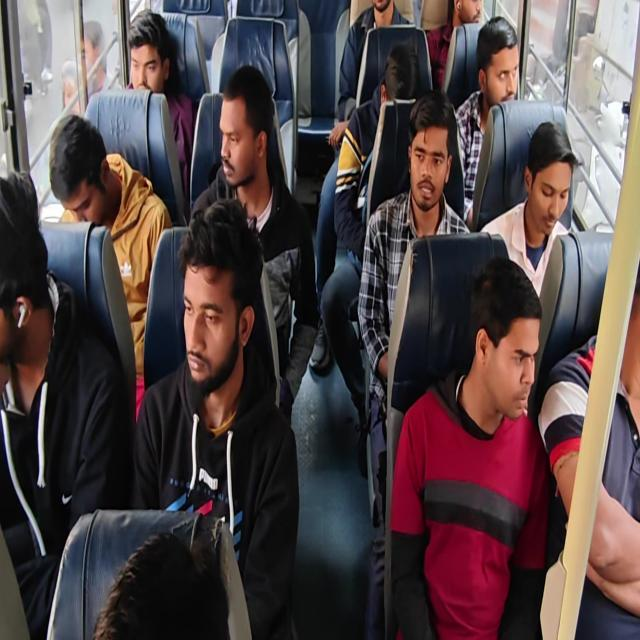person: (1, 1, 638, 638), (132, 197, 300, 638), (357, 89, 471, 637), (390, 256, 551, 638), (0, 169, 131, 637), (189, 64, 319, 425), (319, 42, 422, 476), (537, 263, 639, 638), (49, 113, 173, 421), (334, 43, 421, 258), (480, 120, 578, 298), (92, 530, 231, 638), (454, 15, 520, 226), (124, 9, 196, 202), (328, 0, 412, 150), (426, 0, 483, 91), (82, 20, 122, 101), (60, 59, 85, 115)
